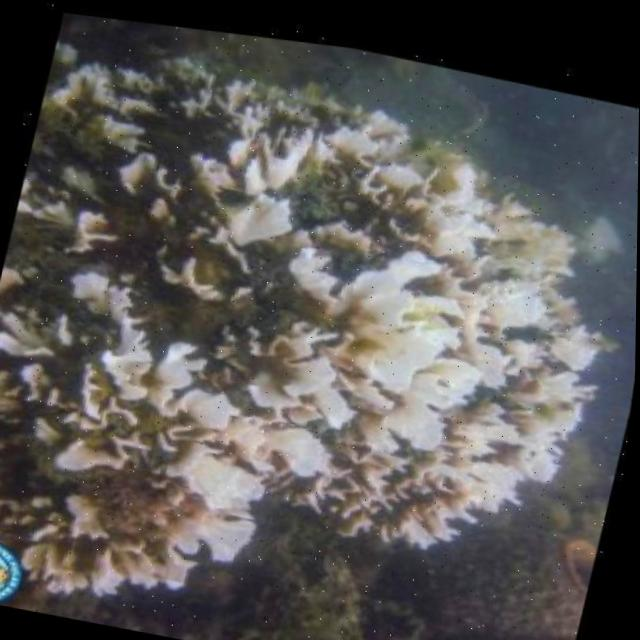Bleached Coral: (0, 49, 619, 591)
